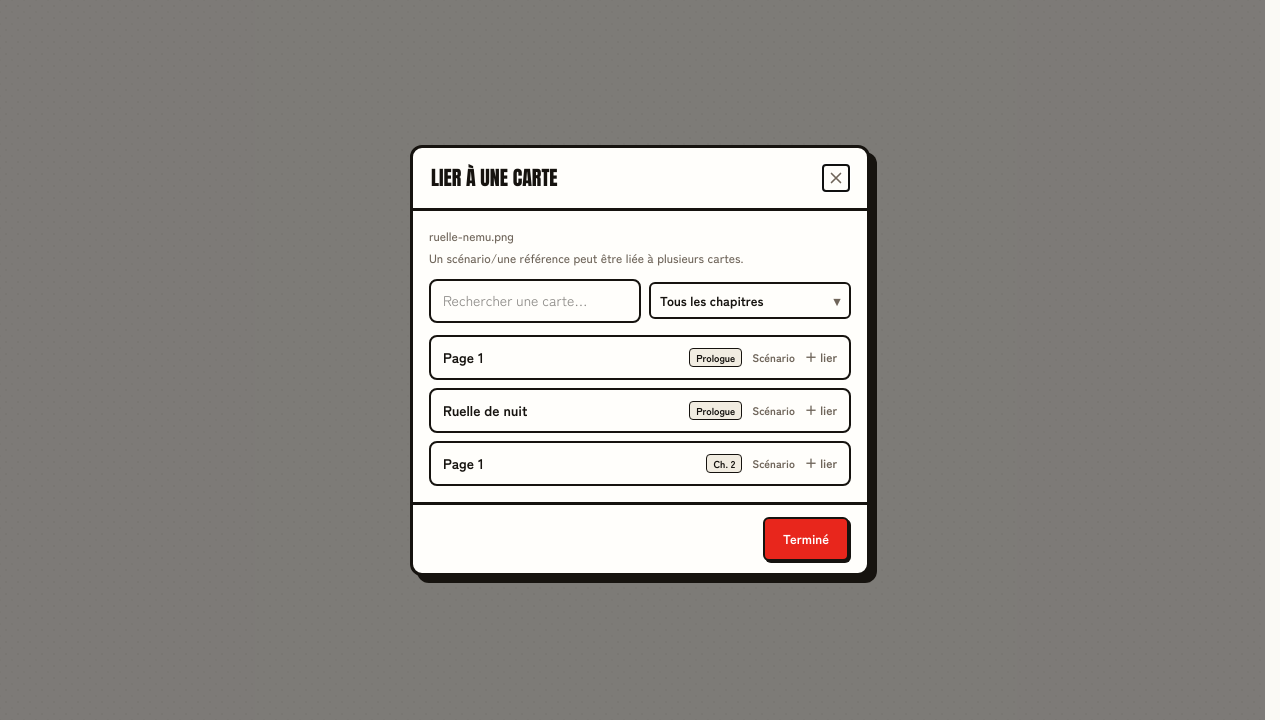
it: LinkCardModal › filters (R7-1) › narrows to one chapter with the OnBrandSelect filter — no native select
Click the dropdown named "Filtrer par chapitre".
click(750, 301)  # box [649,282,851,319]
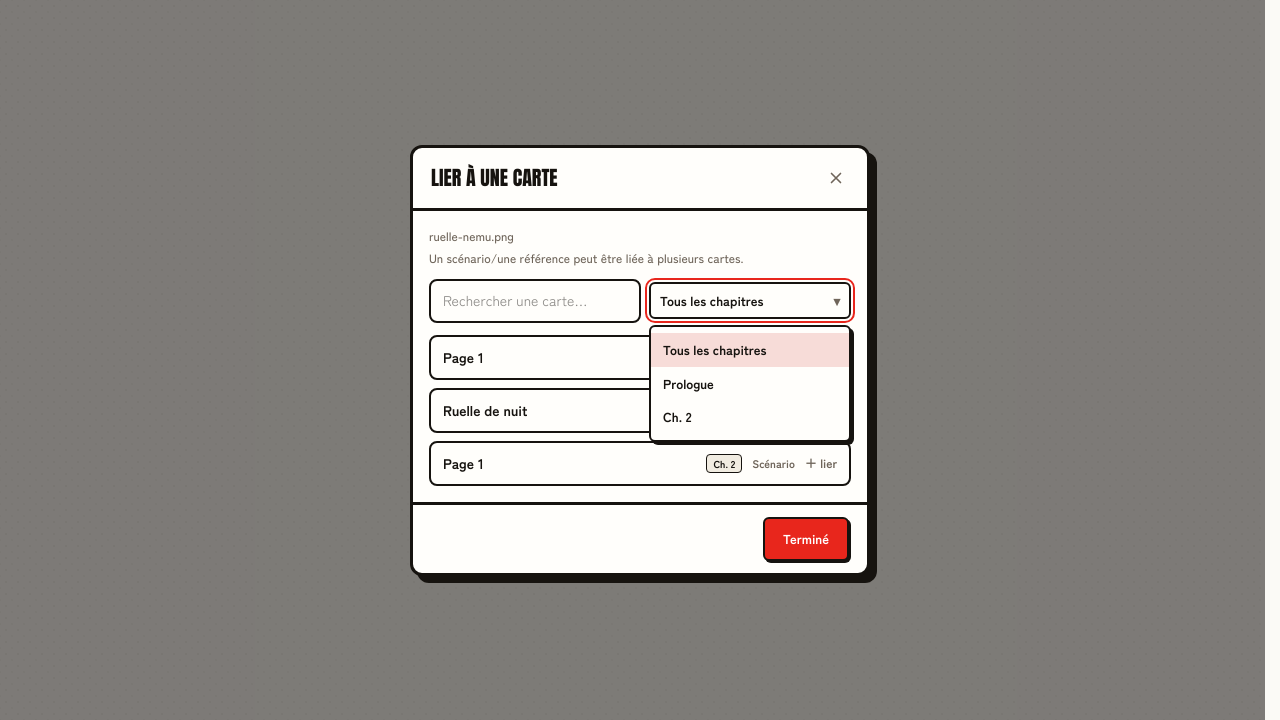
Click the option "Ch. 2".
click(677, 417)  # box [663,407,692,426]
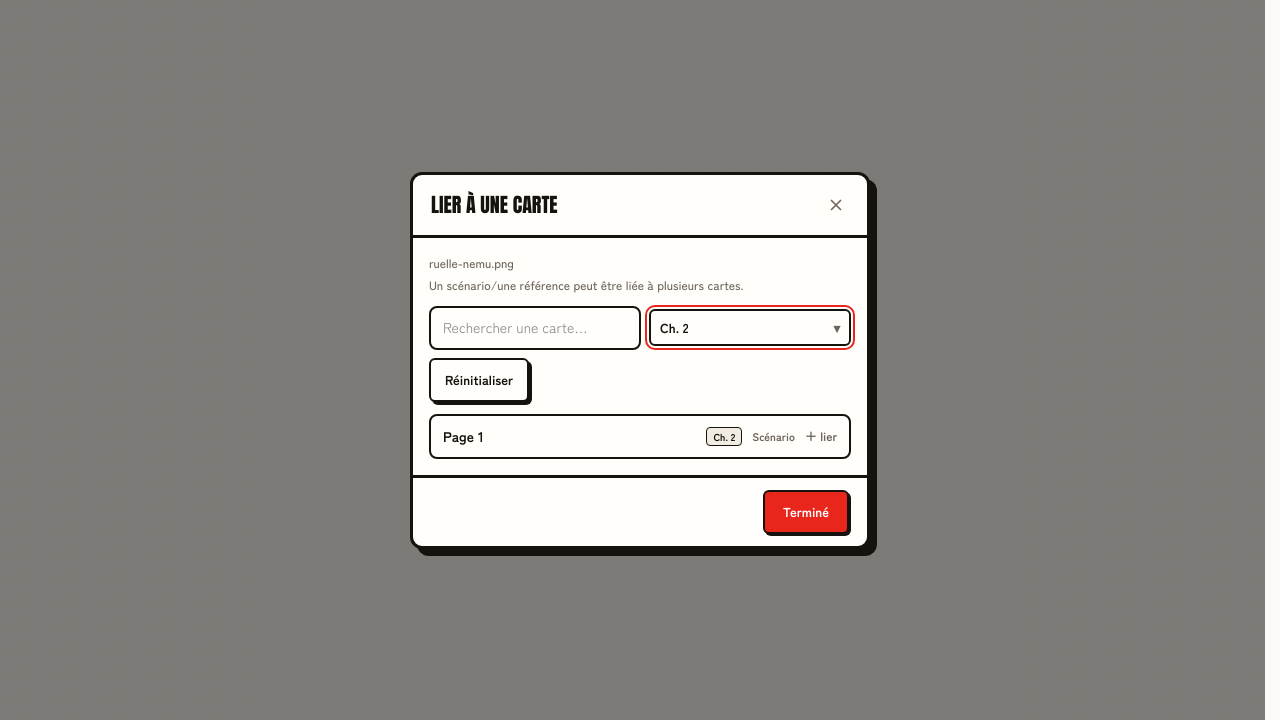
Expected: the button "Page 1 Ch. 2 Scénario ＋ lier" is shown, [429,414,851,458]
Result: the number of buttons "Page 1 Ch. 2 Scénario ＋ lier" is 1 at [429,414,851,458]
Result: the button "Ruelle de nuit" is gone
